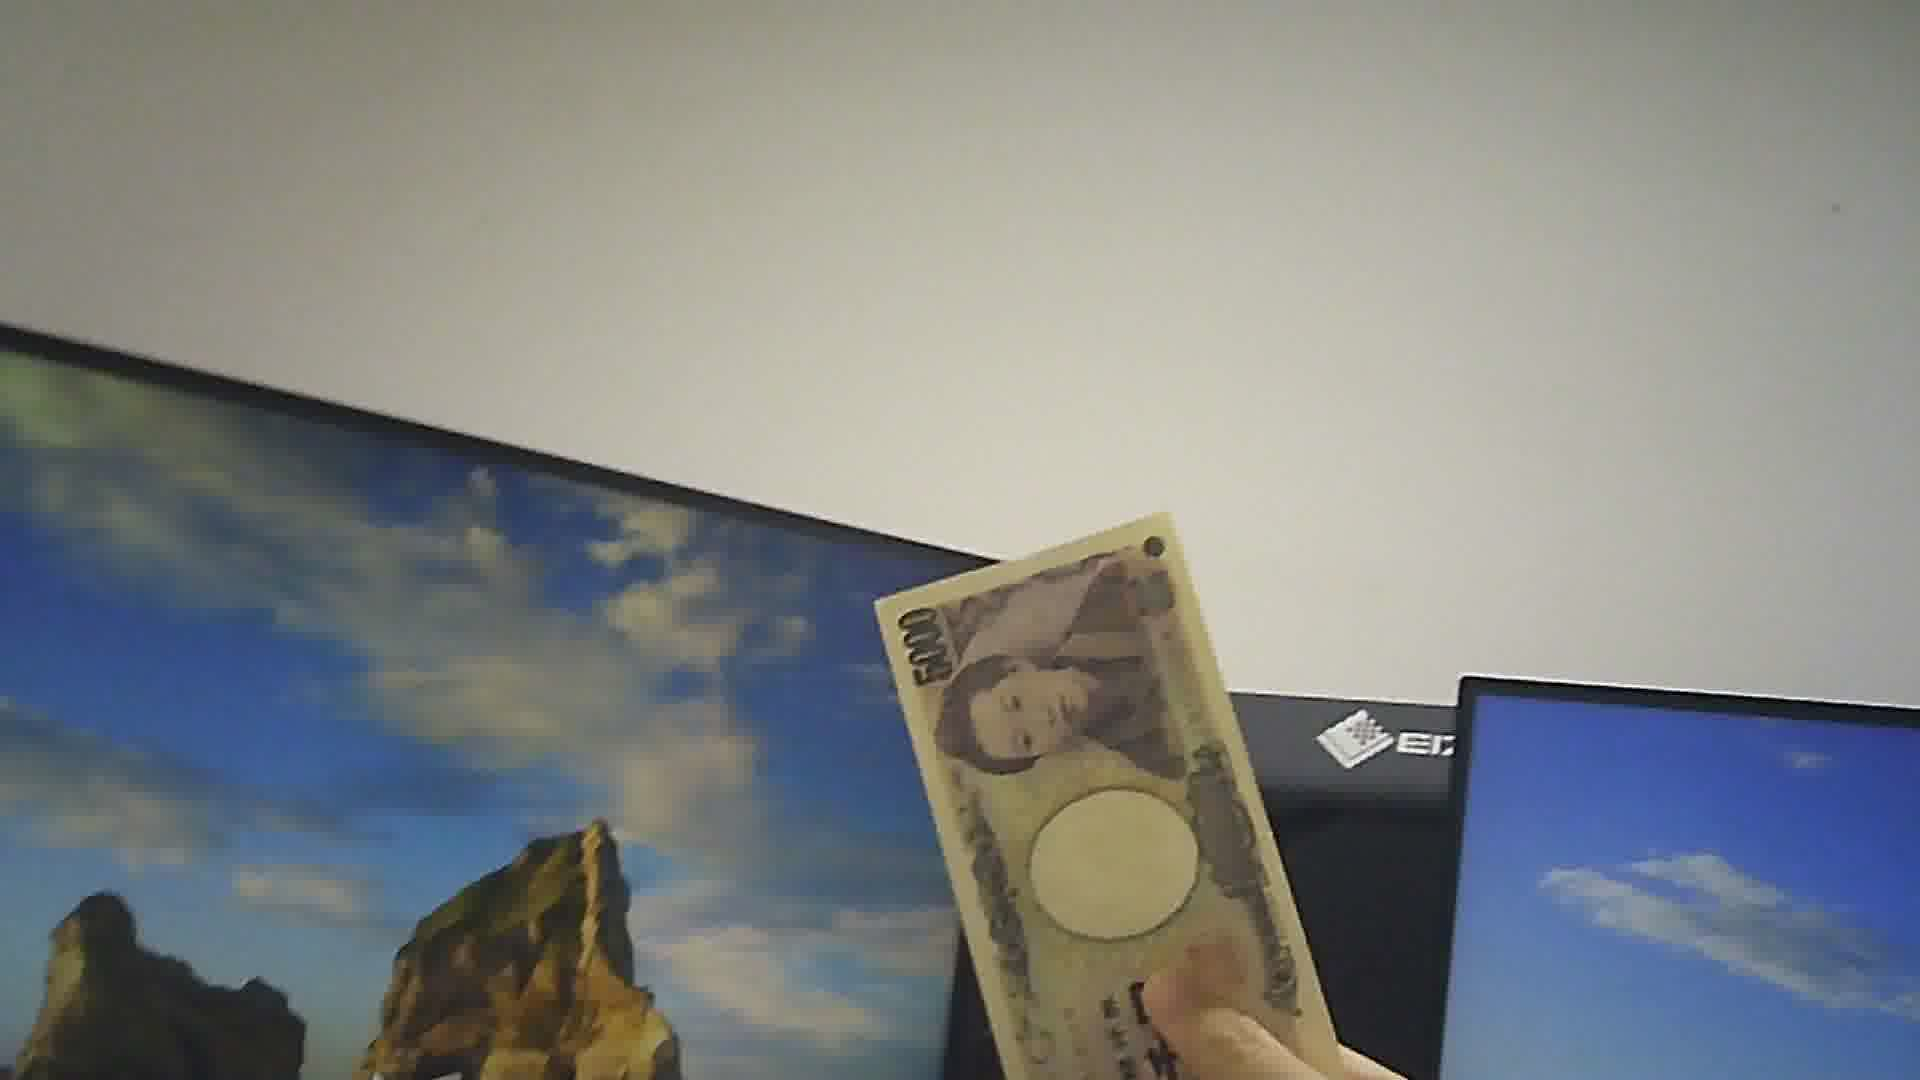5,000 Yen: (852, 527, 1350, 1077)
